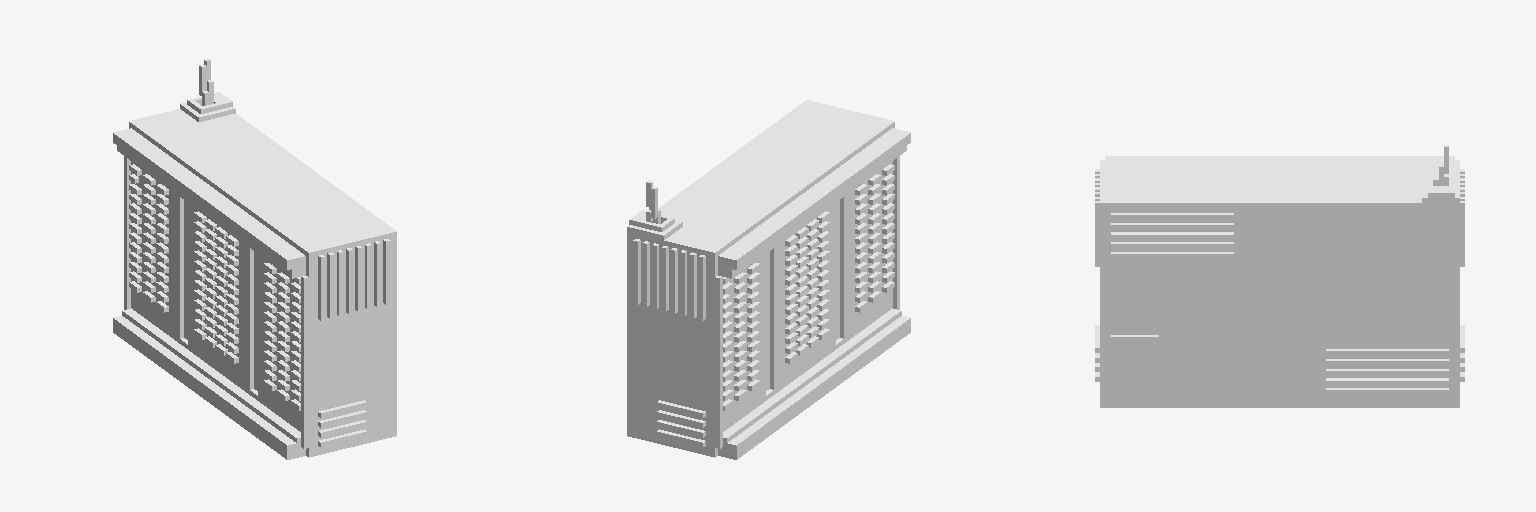
Rendered from server.obj.
The picture shows the model from 3 angles: view 1: azimuth 30°, elevation 25°; view 2: azimuth 150°, elevation 25°; view 3: azimuth 270°, elevation 25°; orthographic projection.
Visible parts, largest first — view 1: vertex_geometry1; view 2: vertex_geometry1; view 3: vertex_geometry1.
Part boxes in pixels (bbox=[...]): vertex_geometry1: bbox=[113, 58, 396, 459]; vertex_geometry1: bbox=[627, 100, 910, 459]; vertex_geometry1: bbox=[1095, 145, 1464, 407].
Size of the model in its own units: 2.4 by 5.2 by 6.9.